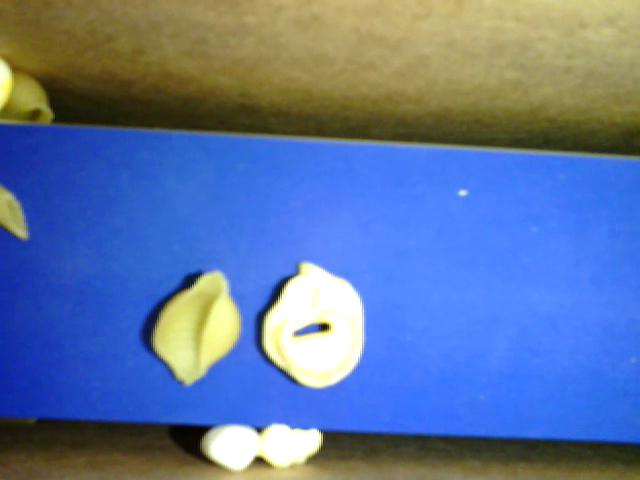shell: (148, 271, 239, 387), (4, 66, 61, 123)
tortellini: (263, 259, 364, 389)
